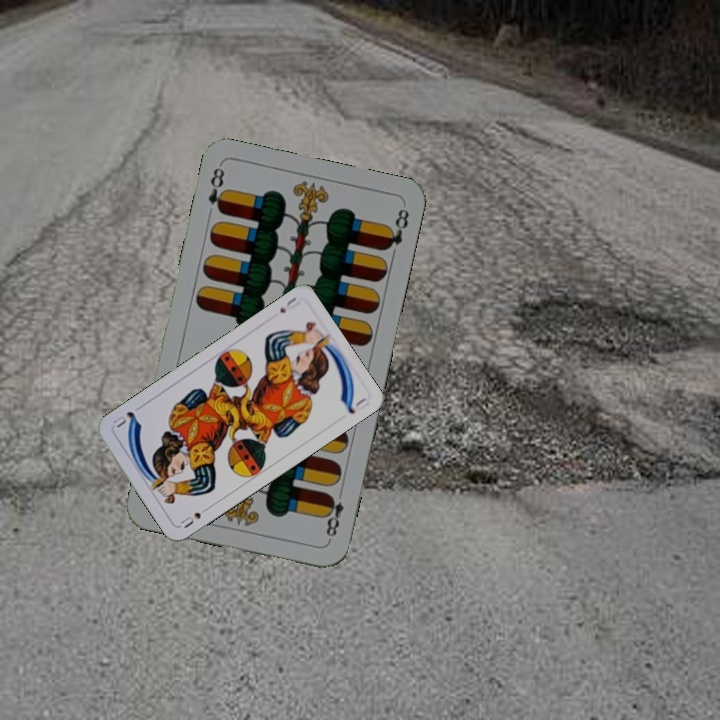E8: (320, 485, 347, 544), (204, 163, 230, 217)
SU: (176, 502, 213, 531), (275, 293, 302, 316)
